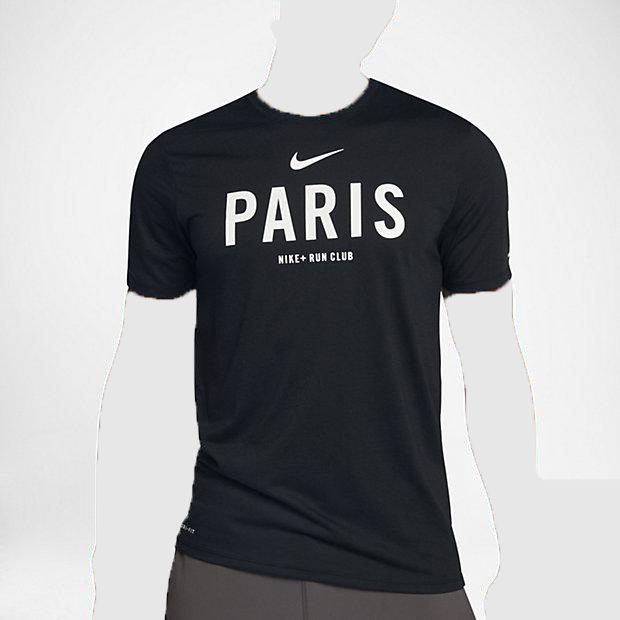teeshirt: (110, 73, 534, 597)
